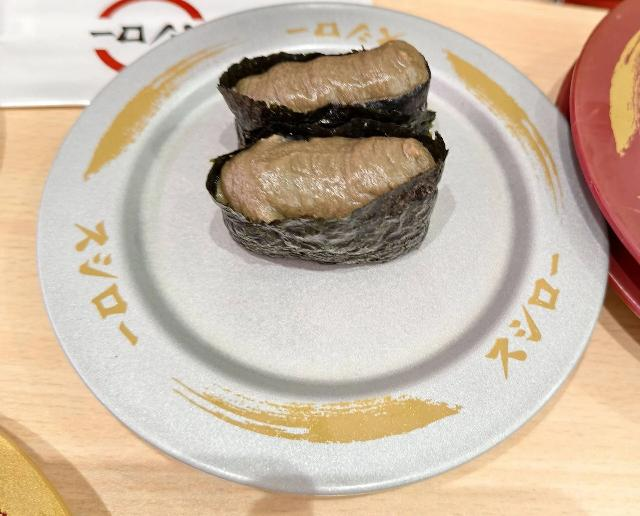janred: (562, 17, 640, 260), (590, 204, 640, 334)
janwhite: (12, 12, 585, 451)
